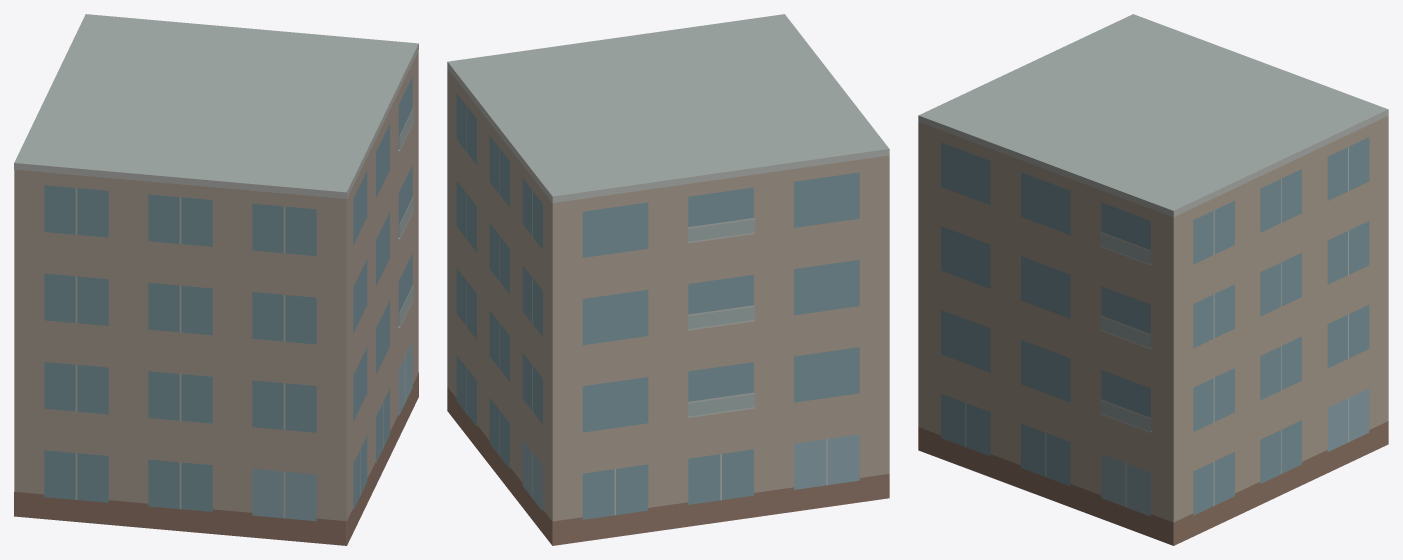
The model's file is survey-upis-33003830.glb.
3 renders of one model, left to right at view 1: azimuth 30°, elevation 25°; view 2: azimuth 150°, elevation 25°; view 3: azimuth 270°, elevation 25°, orthographic. The views are drawn at different scales.
Visible parts, largest first — view 1: survey-upis-33003830.tmp; view 2: survey-upis-33003830.tmp; view 3: survey-upis-33003830.tmp.
Boxes of the visible parts, <box> form: survey-upis-33003830.tmp: <box>14,14,418,545</box>; survey-upis-33003830.tmp: <box>447,14,889,545</box>; survey-upis-33003830.tmp: <box>918,14,1388,545</box>.
Size of the model in its own units: 16.35 by 12.96 by 16.5.
